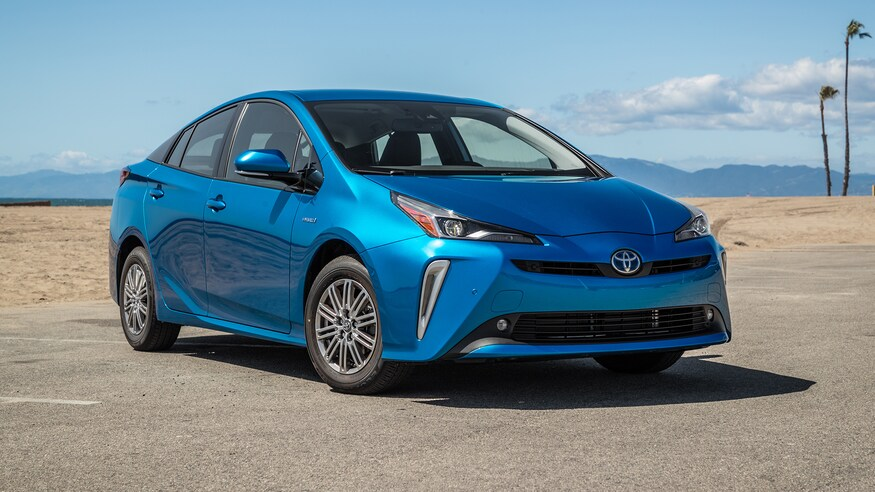Toyota Prius: (109, 90, 732, 392)
